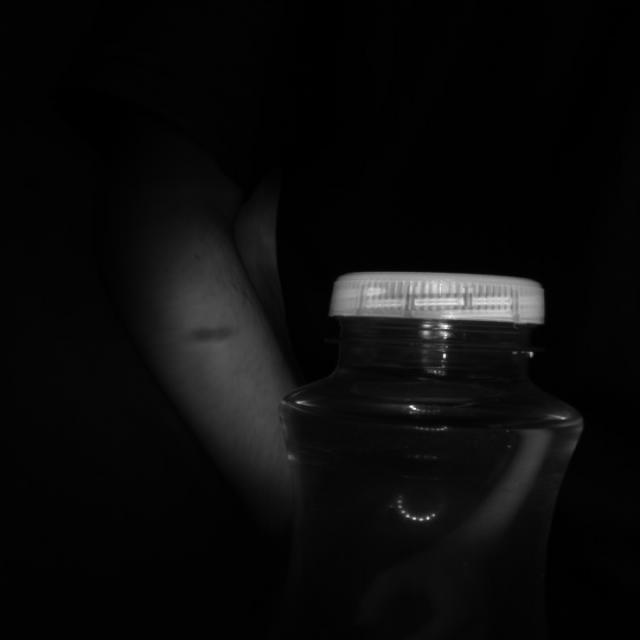Not Good: (329, 271, 548, 352)
